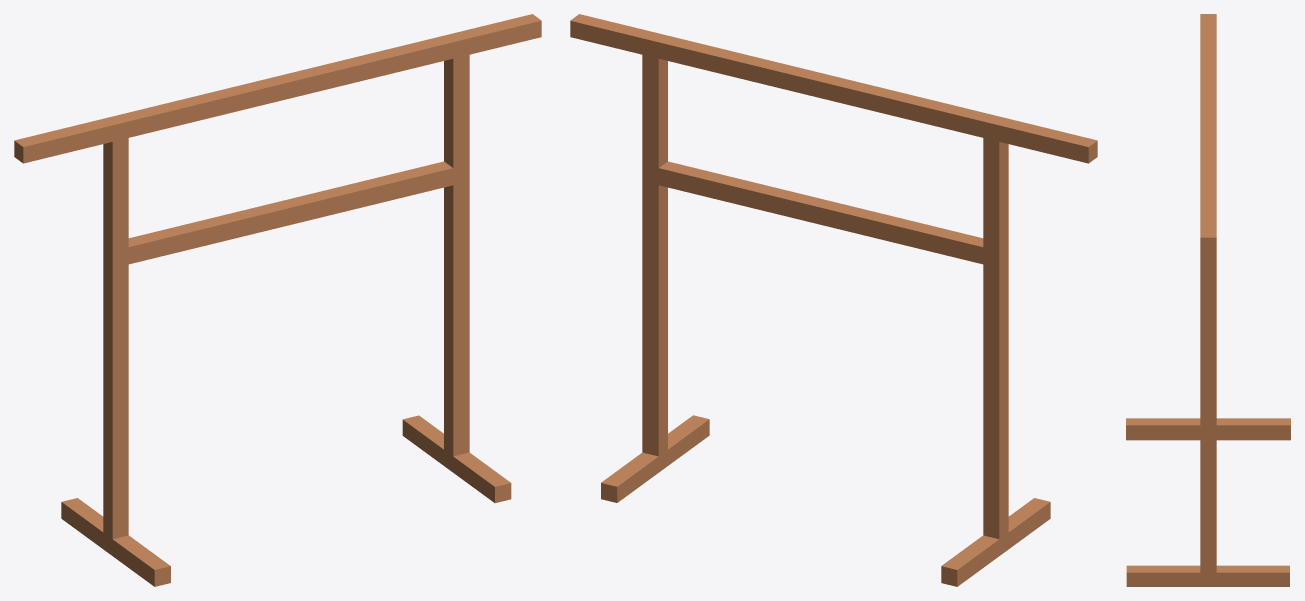
File: gawangan.fbx
3 views of the same model, side by side, from view 1: azimuth 30°, elevation 25°; view 2: azimuth 150°, elevation 25°; view 3: azimuth 270°, elevation 25° (orthographic). The views are drawn at different scales.
Parts seen in each view (by area): view 1: Cube; view 2: Cube; view 3: Cube.
Part boxes in pixels (box(x1,y1,x2,y2)): Cube: box(14, 14, 541, 586); Cube: box(570, 14, 1097, 586); Cube: box(1126, 14, 1290, 586).
Bounding box in the file's own units: 915 × 727 × 285.
